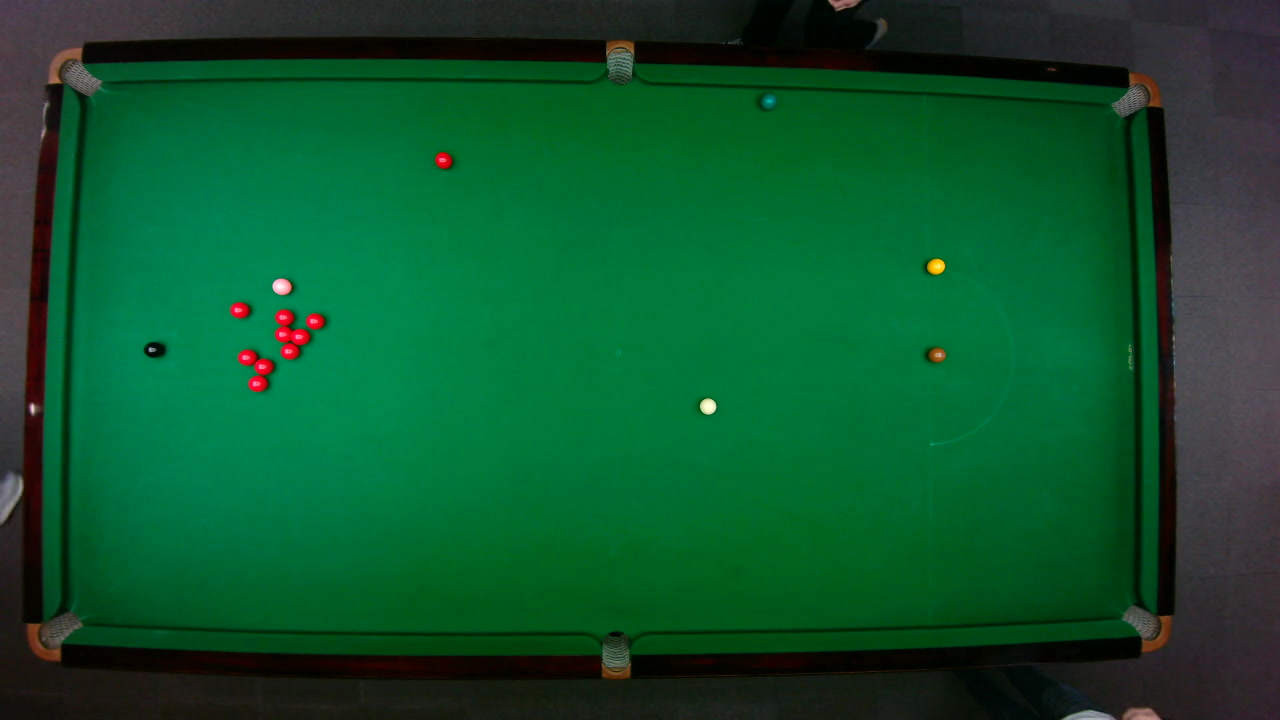bag: (24, 609, 83, 662), (46, 46, 101, 96), (1119, 603, 1172, 652), (1108, 71, 1161, 118), (600, 629, 629, 680), (605, 38, 633, 85)
black: (142, 340, 164, 357)
brown: (926, 346, 946, 362)
green: (759, 92, 776, 110)
pink: (270, 276, 292, 295)
red: (235, 347, 258, 366), (288, 326, 311, 345), (252, 356, 274, 375), (304, 311, 325, 330), (246, 374, 268, 392), (228, 300, 250, 318), (433, 150, 453, 169), (273, 307, 294, 325), (279, 342, 300, 359), (273, 325, 293, 342)
white: (698, 396, 717, 415)
yellow: (925, 257, 946, 275)
zone: (927, 266, 1013, 445)
